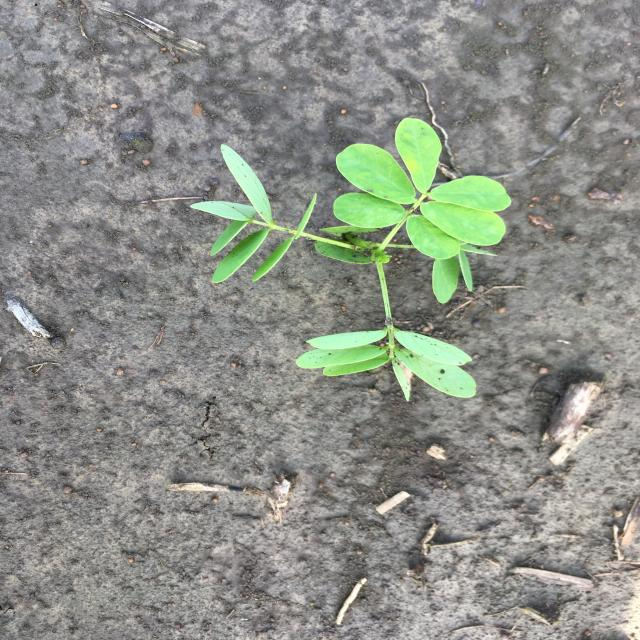Sicklepod: (186, 116, 516, 407)
